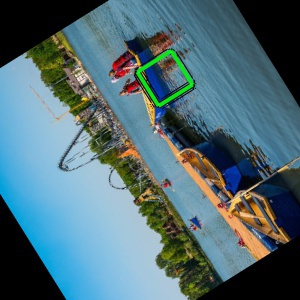square: (131, 46, 200, 112)
